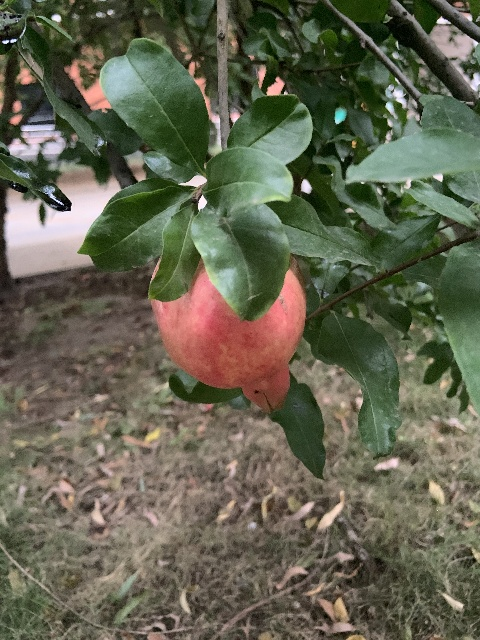ripe: (151, 253, 306, 413)
